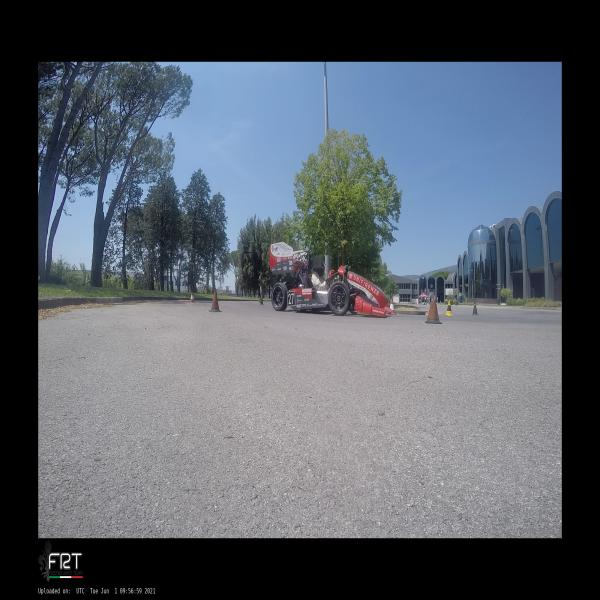orange_cone: (390, 299, 395, 314), (189, 292, 195, 302)
unknown_cone: (424, 290, 442, 324), (208, 288, 222, 312), (472, 302, 479, 316), (259, 296, 264, 306)
yellow_cone: (445, 300, 453, 315)
